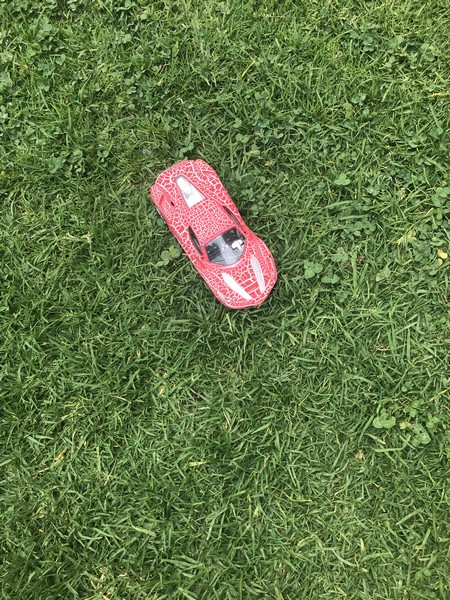RC: (147, 158, 280, 313)
